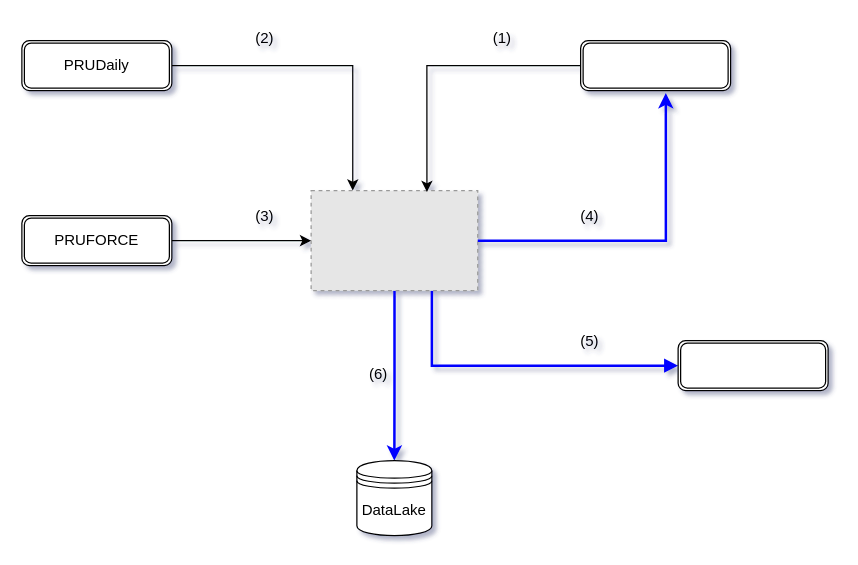
This 858x565 diagram has some shape labels left out. Grey dashed boxes stand in for pictures. Each missing label, with the box of its shape:
(Local) TMS: (579, 39, 731, 91)
PRUQuote: (677, 339, 828, 391)
